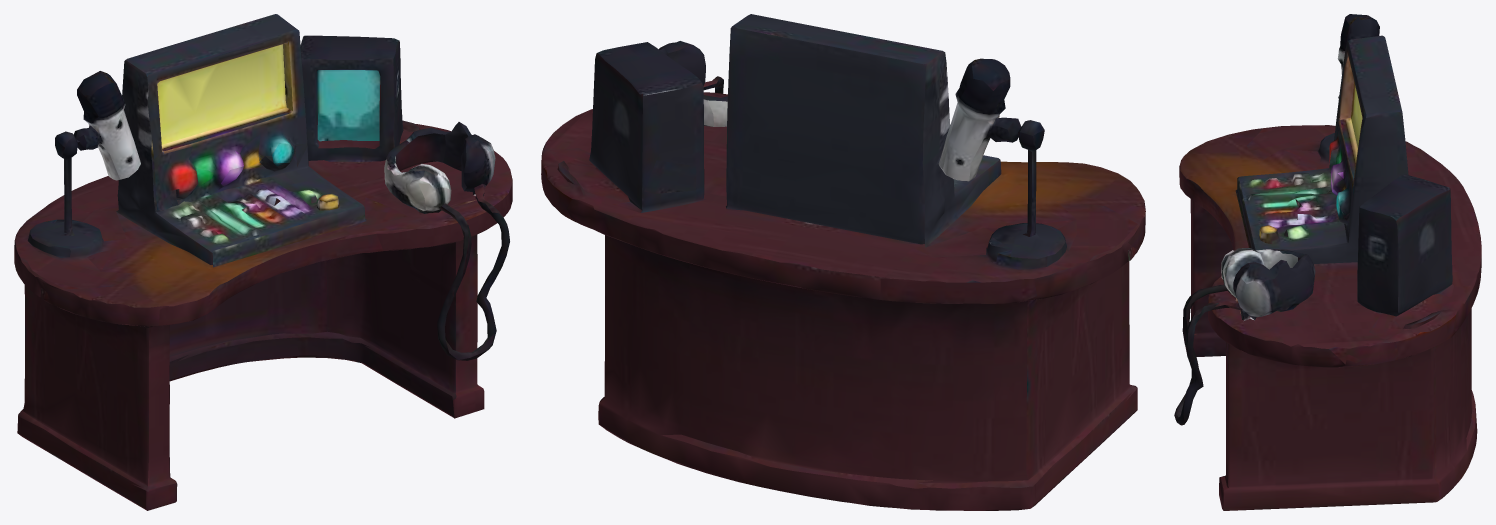
The model's file is radio_desk.glb.
3 renders of one model, left to right at view 1: azimuth 30°, elevation 25°; view 2: azimuth 150°, elevation 25°; view 3: azimuth 270°, elevation 25°, orthographic. The views are drawn at different scales.
Parts seen in each view (by area): view 1: radio_desk2; view 2: radio_desk2; view 3: radio_desk2.
Boxes of the visible parts, x1=… form: radio_desk2: x1=14, y1=14, x2=512, y2=510; radio_desk2: x1=541, y1=14, x2=1145, y2=510; radio_desk2: x1=1174, y1=14, x2=1481, y2=510.
Bounding box in the file's own units: 1 × 0.7245 × 0.5787.
Materials: 1 (1 with a texture image).
